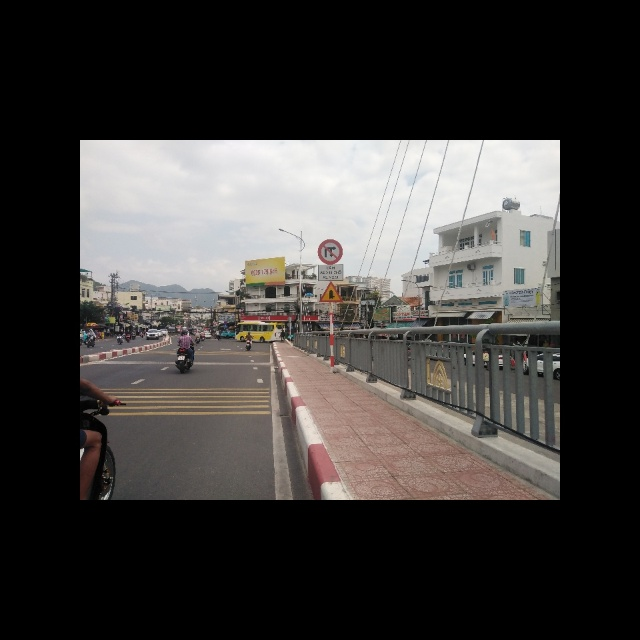Cấm quay đầu và rẽ phải: (317, 238, 342, 265)
Giao nhau với đường không ưu tiên: (319, 281, 343, 303)
